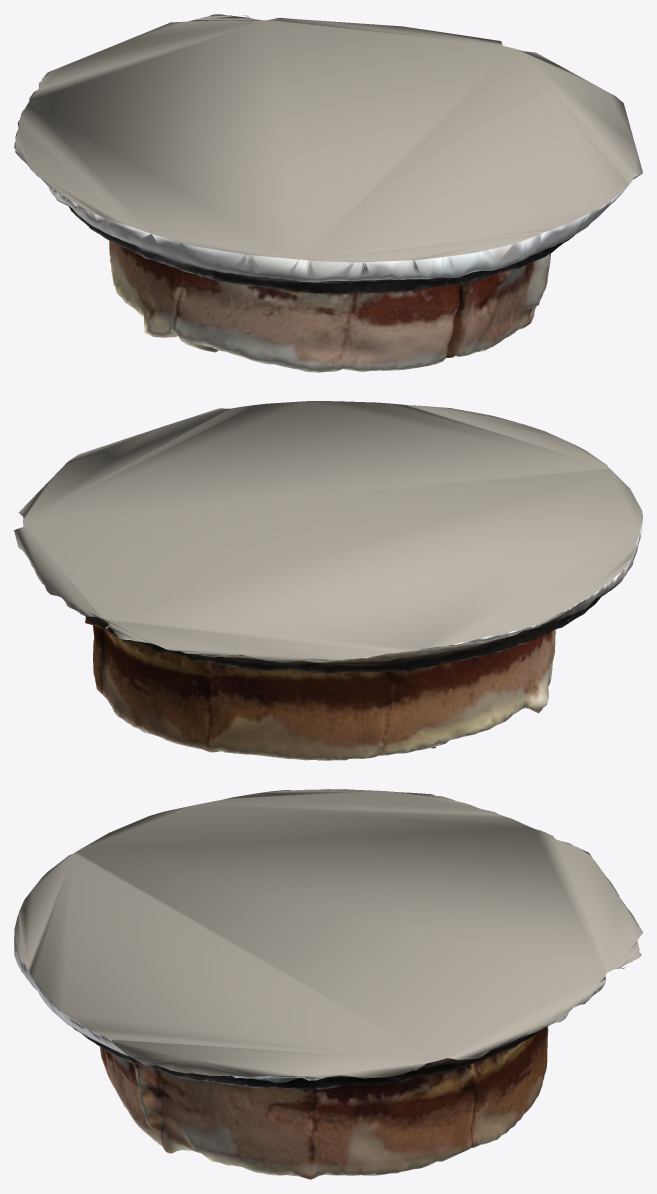
File: cake_20006.obj
3 views of the same model, one above another, from view 1: azimuth 30°, elevation 25°; view 2: azimuth 150°, elevation 25°; view 3: azimuth 270°, elevation 25° (orthographic). The views are drawn at different scales.
Size of the model in its own units: 0.1761 by 0.0565 by 0.1767.
Materials: 1 (1 with a texture image).
